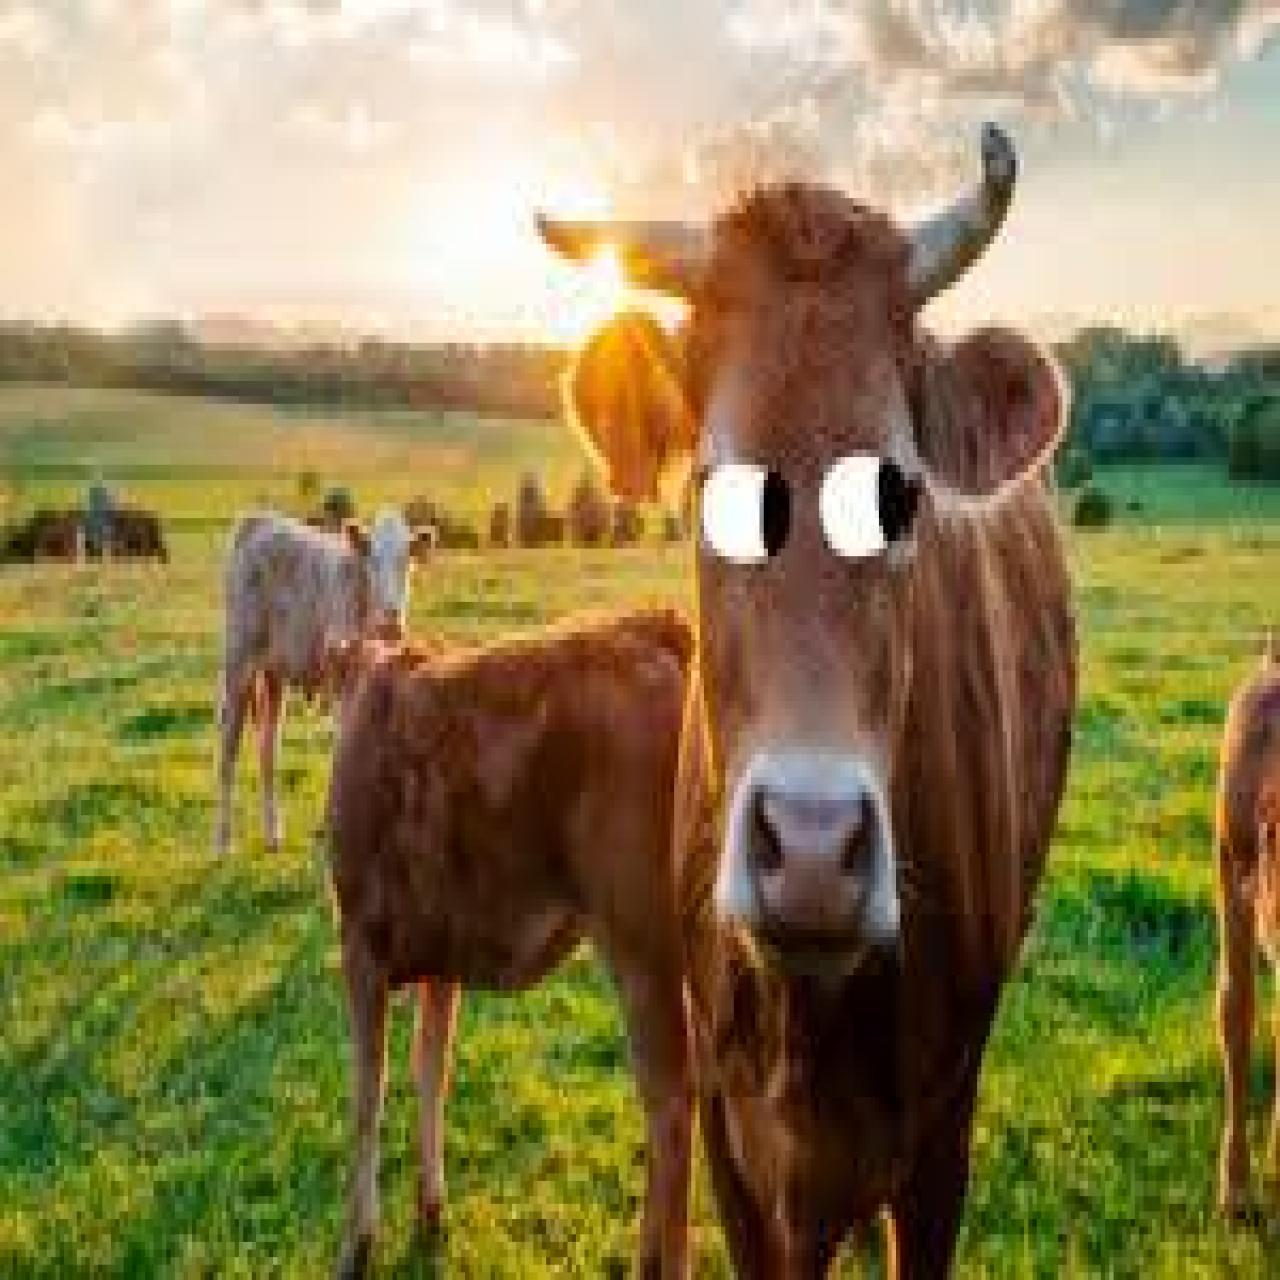cow: (564, 198, 1080, 1280), (322, 625, 706, 1280), (213, 503, 430, 853), (1216, 625, 1280, 1211), (109, 499, 169, 567)
